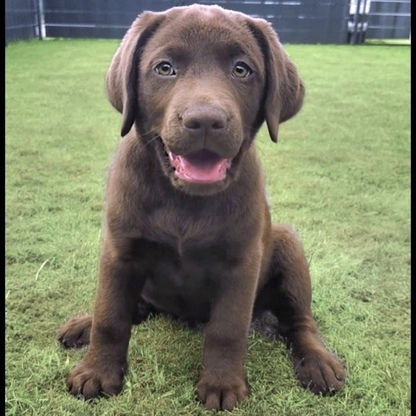labrado: (52, 3, 356, 416)
